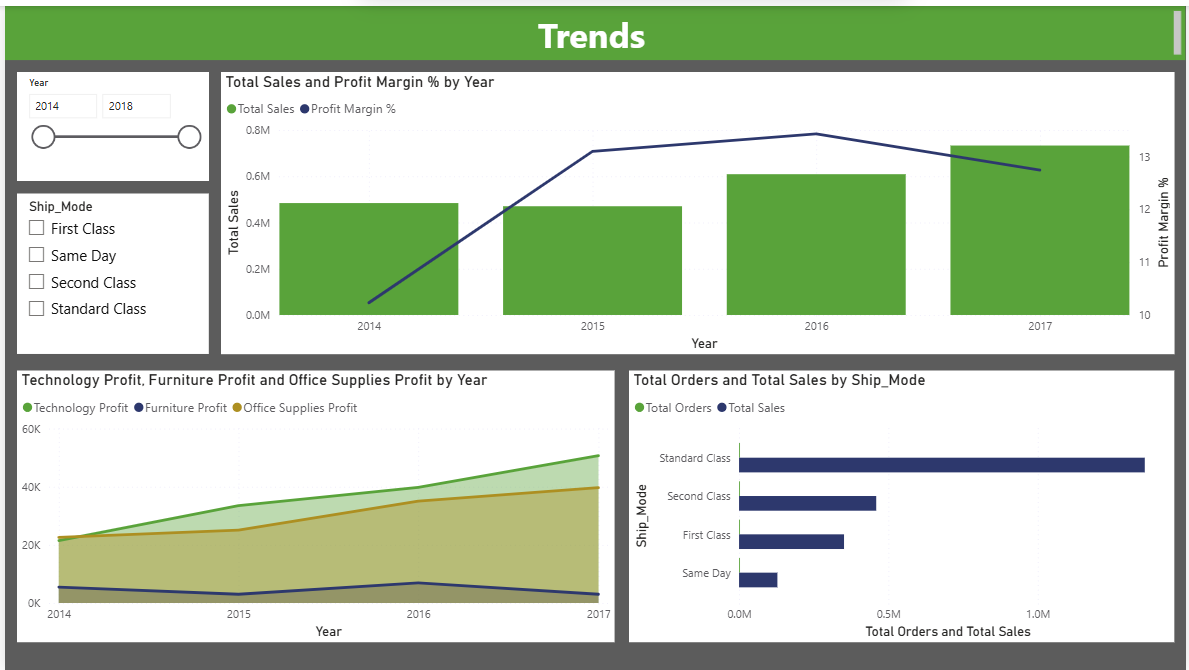

The page's visual inventory and layout, read from the dashboard file:
{"tool":"powerbi","page":{"name":"Trends","canvas":[1280,720],"ordinal":2},"visuals":[{"type":"textbox","box":[0,0,1280,58.3],"z":0},{"type":"lineClusteredColumnComboChart","fields":{"Y":["superstore_sales.Total Sales"],"Y2":["superstore_sales.Profit Margin %"],"Category":["DateTable.Date.Variation.Date Hierarchy.Year"]},"box":[234.3,71.8,1033.7,306.1],"z":1000},{"type":"areaChart","fields":{"Category":["DateTable.Date.Variation.Date Hierarchy.Year"],"Y":["superstore_sales.Technology Profit","superstore_sales.Furniture Profit","superstore_sales.Office Supplies Profit"]},"box":[13.2,395,648.2,294.8],"z":2000},{"type":"clusteredBarChart","fields":{"Category":["superstore_sales.Ship_Mode"],"Y":["superstore_sales.Total Orders","superstore_sales.Total Sales"]},"box":[676.5,395,591.5,294.8],"z":3000},{"type":"slicer","fields":{"Values":["DateTable.Date.Variation.Date Hierarchy.Year"]},"box":[13.2,71.8,207.9,117.2],"z":4000},{"type":"slicer","fields":{"Values":["superstore_sales.Ship_Mode"]},"box":[13.2,204.1,207.9,173.9],"z":5000}]}

Visuals, with their boxes in screenshot pixels (x1, y1, x2, y2), scaled from the page's 1280x720 canvas onto the 1189x670 screenshot:
textbox: 0:0:1188:54
lineClusteredColumnComboChart - superstore_sales.Total Sales x superstore_sales.Profit Margin %: 218:67:1178:352
areaChart - DateTable.Date.Variation.Date Hierarchy.Year x superstore_sales.Technology Profit: 12:368:614:642
clusteredBarChart - superstore_sales.Ship_Mode x superstore_sales.Total Orders: 628:368:1178:642
slicer - DateTable.Date.Variation.Date Hierarchy.Year: 12:67:205:176
slicer - superstore_sales.Ship_Mode: 12:190:205:352
